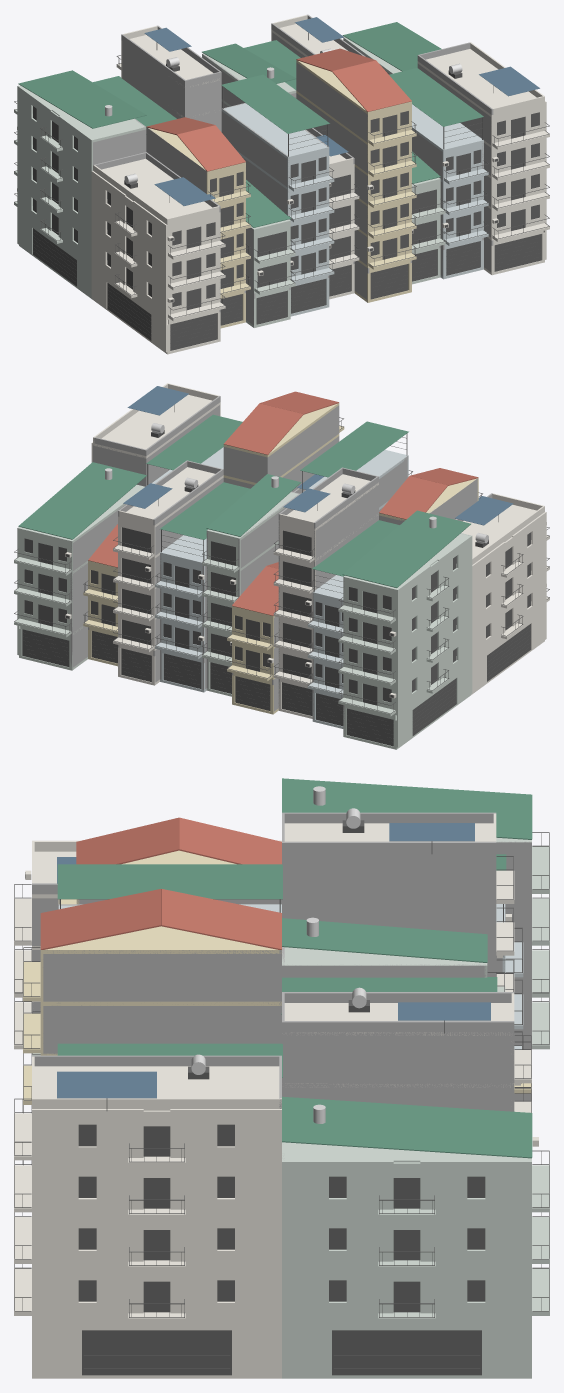
The model's file is low_poly_hanoi_vietnamese_tube_houses_block.glb.
The picture shows the model from 3 angles, top to bottom: view 1: azimuth 30°, elevation 25°; view 2: azimuth 150°, elevation 25°; view 3: azimuth 270°, elevation 25°; orthographic projection. The views are drawn at different scales.
Visible parts, largest first — view 1: Merged_Metal_Structures, Merged_Facade_Cream, Merged_SideWalls, Merged_Roofs_Green, Merged_Facade_Green, Merged_Facade_Blue, Merged_Facade_Yellow, Merged_Roofs_Red, Merged_Roofs_Blue, Merged_WaterTanks; view 2: Merged_Metal_Structures, Merged_Facade_Green, Merged_Facade_Cream, Merged_SideWalls, Merged_Roofs_Green, Merged_Facade_Blue, Merged_Roofs_Red, Merged_Facade_Yellow, Merged_Roofs_Blue, Merged_WaterTanks; view 3: Merged_Facade_Cream, Merged_SideWalls, Merged_Facade_Green, Merged_Roofs_Green, Merged_Metal_Structures, Merged_Roofs_Red, Merged_Facade_Yellow, Merged_Roofs_Blue, Merged_WaterTanks, Merged_Facade_Blue.
Boxes of the visible parts, <box> form: Merged_Metal_Structures: <box>14,33,549,350</box>; Merged_Facade_Cream: <box>17,15,549,354</box>; Merged_SideWalls: <box>93,14,493,325</box>; Merged_Roofs_Green: <box>18,22,483,227</box>; Merged_Facade_Green: <box>14,37,445,327</box>; Merged_Facade_Blue: <box>221,103,488,316</box>; Merged_Facade_Yellow: <box>148,60,416,328</box>; Merged_Roofs_Red: <box>146,48,411,171</box>; Merged_Roofs_Blue: <box>144,17,539,205</box>; Merged_WaterTanks: <box>105,48,462,183</box>; Merged_Metal_Structures: <box>14,405,549,746</box>; Merged_Facade_Green: <box>14,485,472,749</box>; Merged_Facade_Cream: <box>65,383,549,718</box>; Merged_SideWalls: <box>70,396,492,734</box>; Merged_Roofs_Green: <box>18,414,470,587</box>; Merged_Facade_Blue: <box>152,447,408,728</box>; Merged_Roofs_Red: <box>88,391,478,615</box>; Merged_Facade_Yellow: <box>83,403,478,714</box>; Merged_Roofs_Blue: <box>123,386,513,525</box>; Merged_WaterTanks: <box>105,423,488,543</box>; Merged_Facade_Cream: <box>14,813,538,1378</box>; Merged_SideWalls: <box>32,812,531,1158</box>; Merged_Facade_Green: <box>32,837,549,1378</box>; Merged_Roofs_Green: <box>57,778,532,1158</box>; Merged_Metal_Structures: <box>14,820,549,1375</box>; Merged_Roofs_Red: <box>40,817,281,949</box>; Merged_Facade_Yellow: <box>23,850,531,1104</box>; Merged_Roofs_Blue: <box>57,823,490,1098</box>; Merged_WaterTanks: <box>191,786,366,1123</box>; Merged_Facade_Blue: <box>58,904,523,1049</box>.
Size of the model in its own units: 42.7 by 21.39 by 30.
